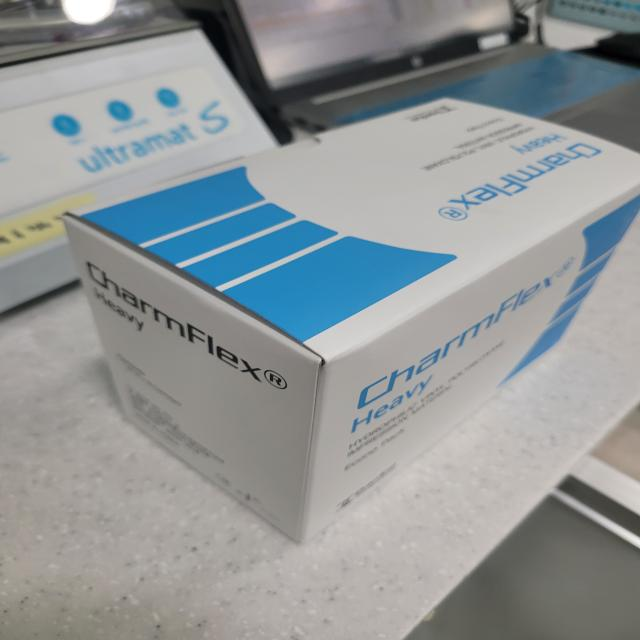impression: (40, 90, 640, 547)
